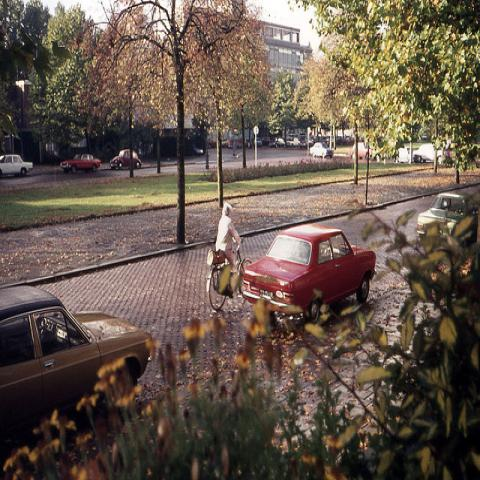car: (1, 282, 158, 442), (240, 223, 376, 326), (418, 194, 478, 254), (207, 132, 319, 150), (60, 153, 102, 175), (110, 148, 146, 171), (0, 154, 33, 178), (309, 141, 334, 159), (413, 143, 435, 163), (348, 142, 372, 160), (398, 146, 411, 162), (269, 138, 286, 149), (287, 136, 300, 148), (336, 136, 343, 144)
